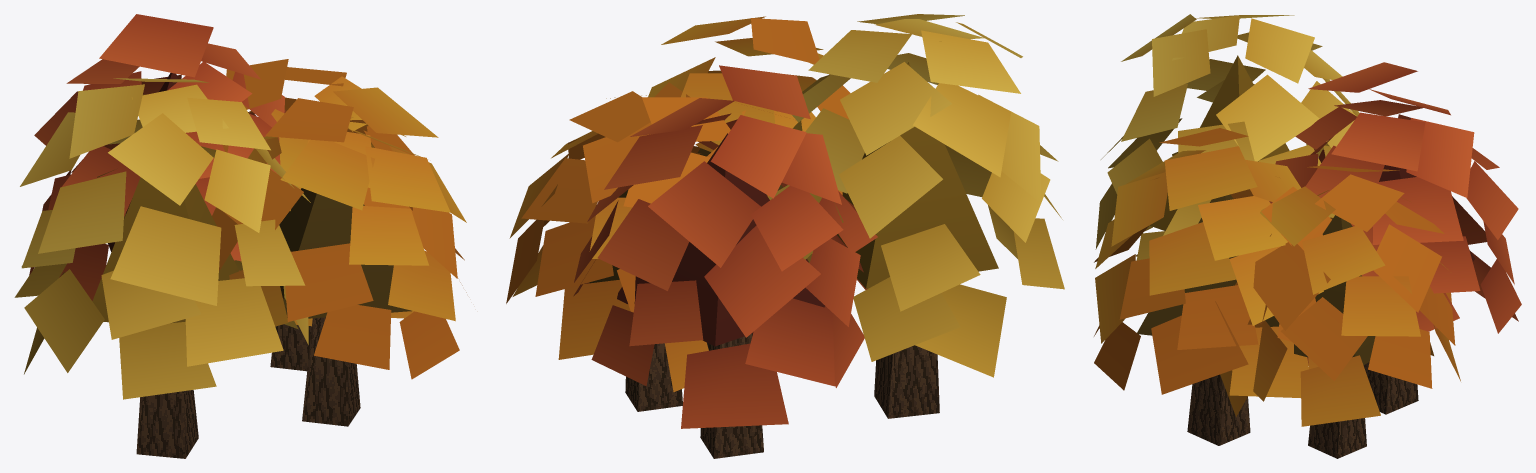
Rendered from forest_clump_b.glb.
3 renders of one model, left to right at view 1: azimuth 30°, elevation 25°; view 2: azimuth 150°, elevation 25°; view 3: azimuth 270°, elevation 25°, orthographic. The views are drawn at different scales.
Parts seen in each view (by area): view 1: forest_clump_b; view 2: forest_clump_b; view 3: forest_clump_b.
Part boxes in pixels (left/top/right/bottom): forest_clump_b: left=14, top=14, right=466, bottom=458; forest_clump_b: left=506, top=14, right=1064, bottom=458; forest_clump_b: left=1094, top=14, right=1521, bottom=458.
Bounding box in the file's own units: 8.63 × 6.95 × 7.96.
Materials: 2 (1 with a texture image).
